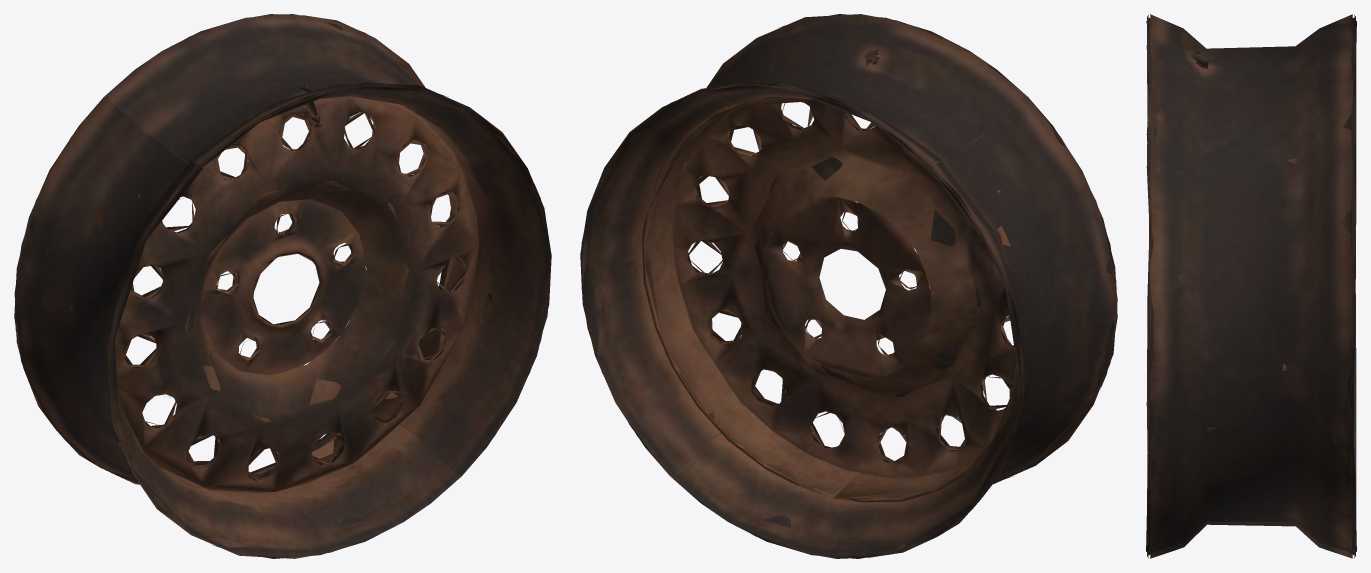
File: rusted_wheel_rim_01.glb
3 renders of one model, left to right at view 1: azimuth 30°, elevation 25°; view 2: azimuth 150°, elevation 25°; view 3: azimuth 270°, elevation 25°, orthographic. The views are drawn at different scales.
Visible parts, largest first — view 1: rusted_wheel_rim_01; view 2: rusted_wheel_rim_01; view 3: rusted_wheel_rim_01.
Boxes of the visible parts, x1,y1,x2,y2 form: rusted_wheel_rim_01: (14,14,551,558); rusted_wheel_rim_01: (580,14,1117,558); rusted_wheel_rim_01: (1146,14,1356,558).
Bounding box in the file's own units: 0.4032 × 0.4018 × 0.1555.
1 material, 1 textured.
